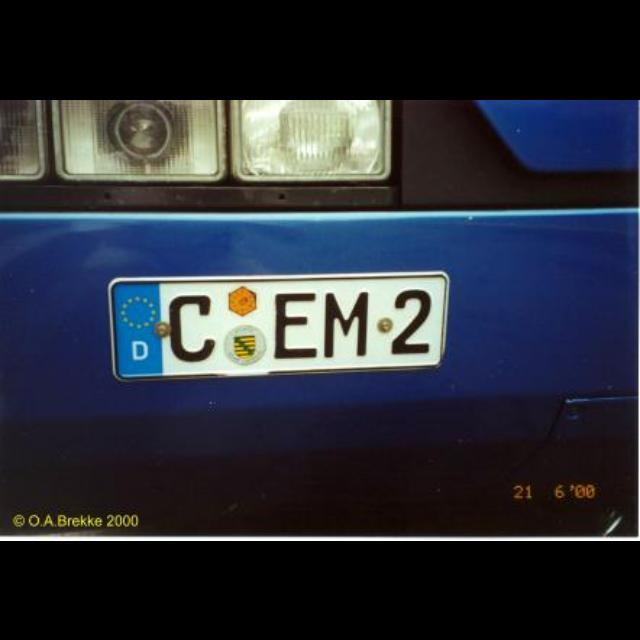license-plates: (109, 273, 450, 380)
